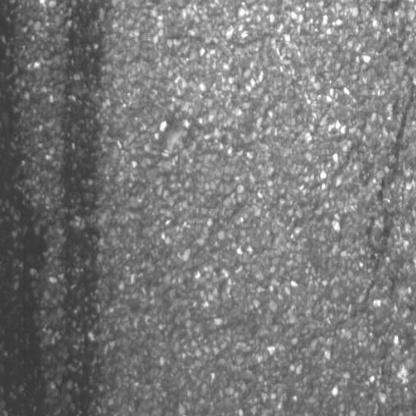Cracks: (359, 78, 416, 309)
